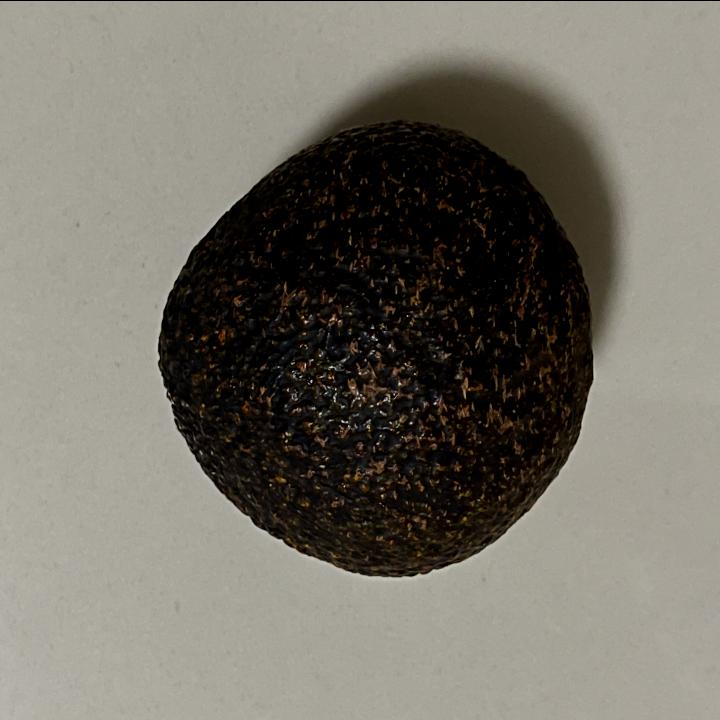Level2: (152, 114, 598, 584)
